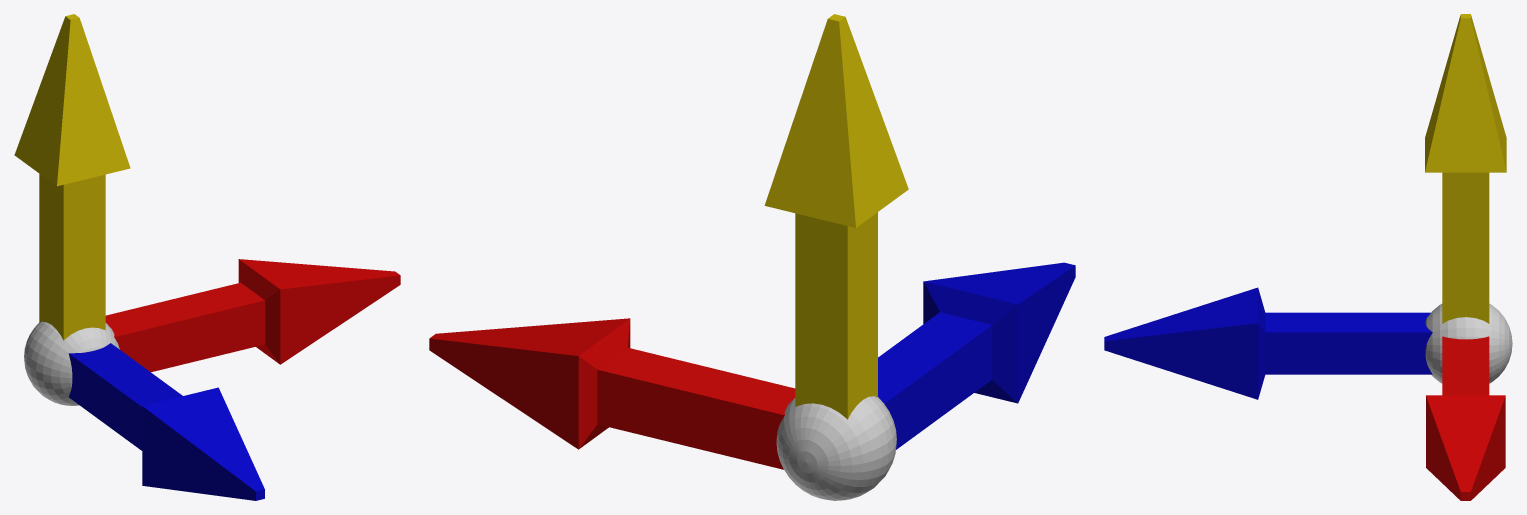
Rendered from Compass.obj.
3 renders of one model, left to right at view 1: azimuth 30°, elevation 25°; view 2: azimuth 150°, elevation 25°; view 3: azimuth 270°, elevation 25°, orthographic. The views are drawn at different scales.
Parts seen in each view (by area): view 1: Sphere; view 2: Sphere; view 3: Sphere.
Part boxes in pixels (x1,y1,x2,y2): Sphere: (14,14,400,500); Sphere: (429,14,1075,500); Sphere: (1104,14,1512,500).
Size of the model in its own units: 1.14 by 1.14 by 1.14.
